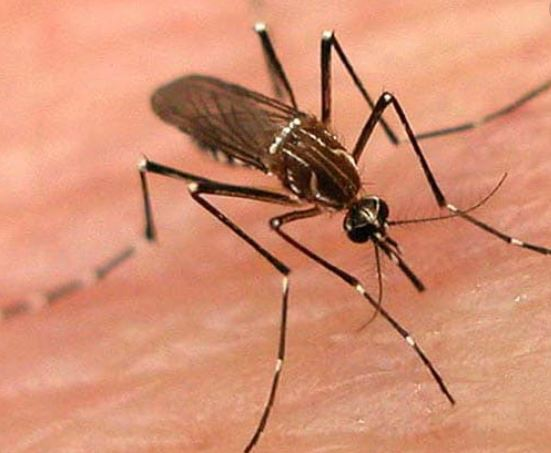dengue_mosquito: (138, 22, 505, 333)
